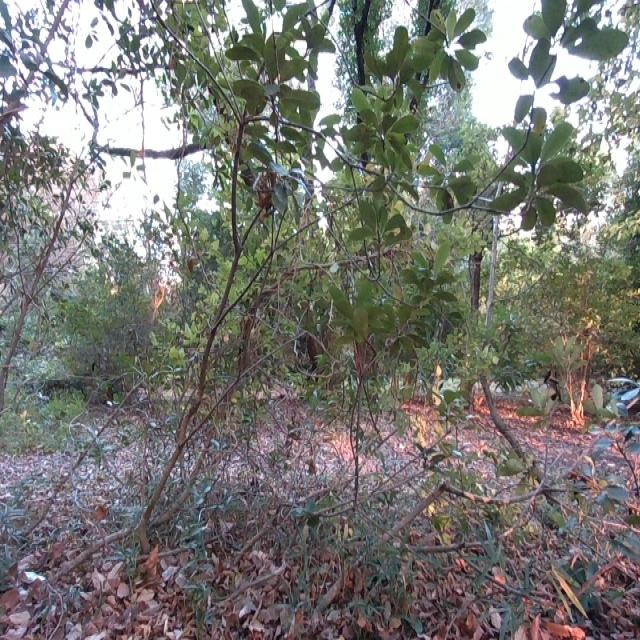bush: (132, 33, 537, 578), (485, 236, 640, 415), (23, 238, 187, 404)
